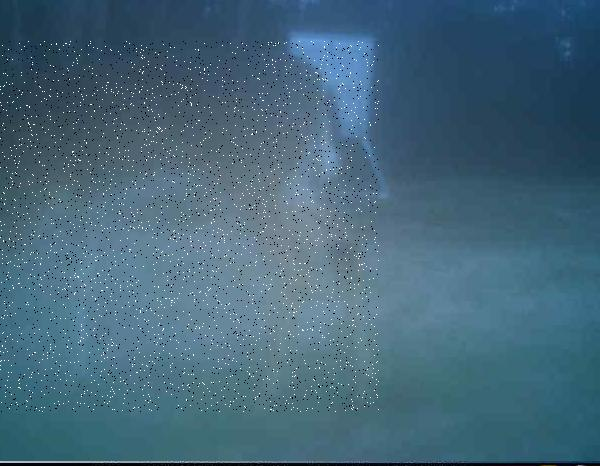Deer: (0, 41, 379, 412)
